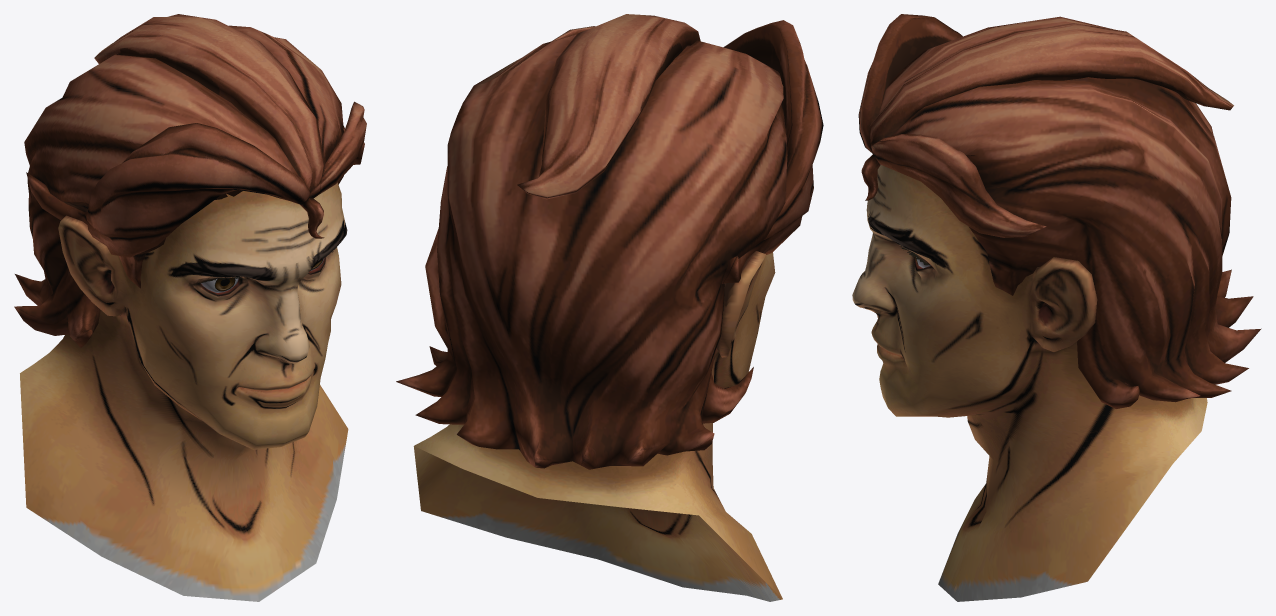
File: beast.glb
3 views of the same model, side by side, from view 1: azimuth 30°, elevation 25°; view 2: azimuth 150°, elevation 25°; view 3: azimuth 270°, elevation 25° (orthographic). The views are drawn at different scales.
Visible parts, largest first — view 1: Object_11, Object_6; view 2: Object_6, Object_11; view 3: Object_6, Object_11.
Boxes of the visible parts, bbox=[...] form: Object_11: bbox=[20, 182, 348, 601]; Object_6: bbox=[14, 14, 366, 347]; Object_6: bbox=[396, 14, 823, 469]; Object_11: bbox=[413, 251, 782, 601]; Object_6: bbox=[858, 14, 1261, 408]; Object_11: bbox=[852, 165, 1207, 601].
Bounding box in the file's own units: 0.3271 × 0.5145 × 0.3447.
6 materials, 6 textured.
